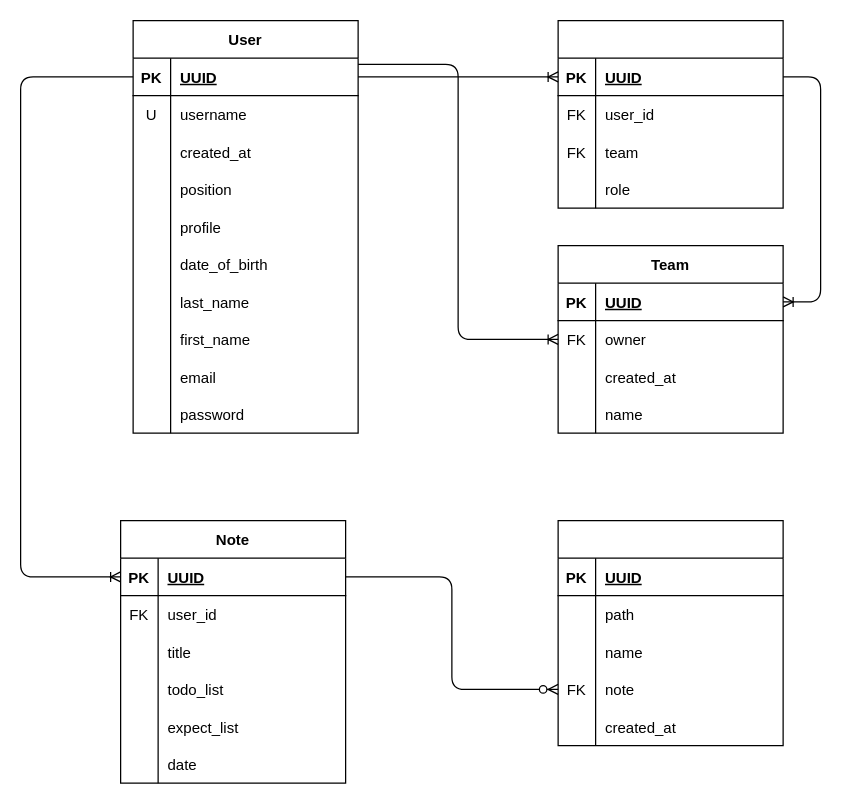
This 841x804 diagram has some shape labels left out. Here are the shapes that lost their labels. From the top down, the box of each, then its label:
(557, 19, 783, 208): Tean_member
(557, 519, 783, 746): Files
